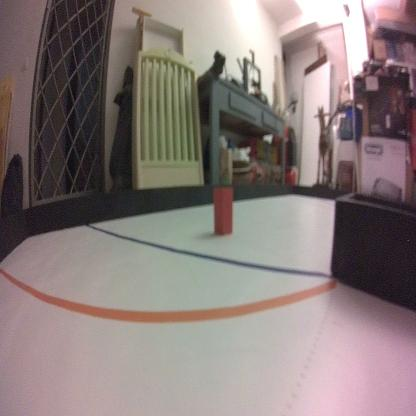red: (212, 184, 233, 237)
